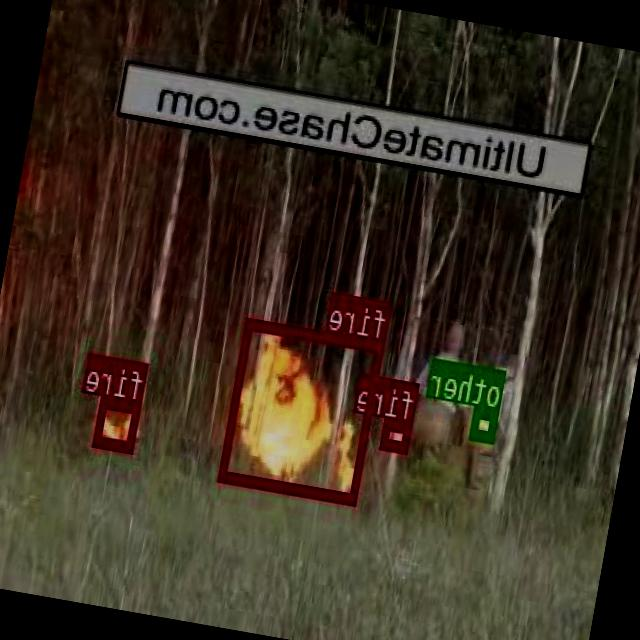fire: (220, 316, 386, 502), (94, 394, 142, 451), (382, 417, 414, 452)
